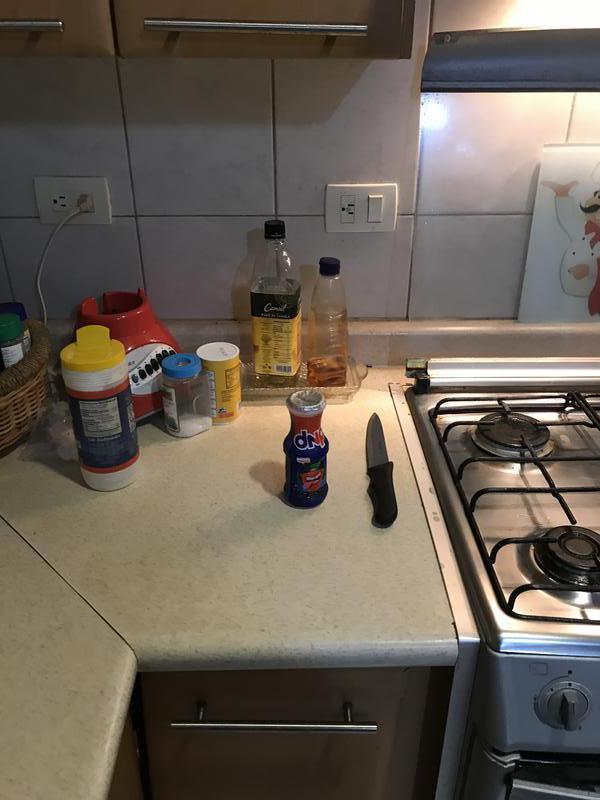danup: (285, 393, 329, 509)
